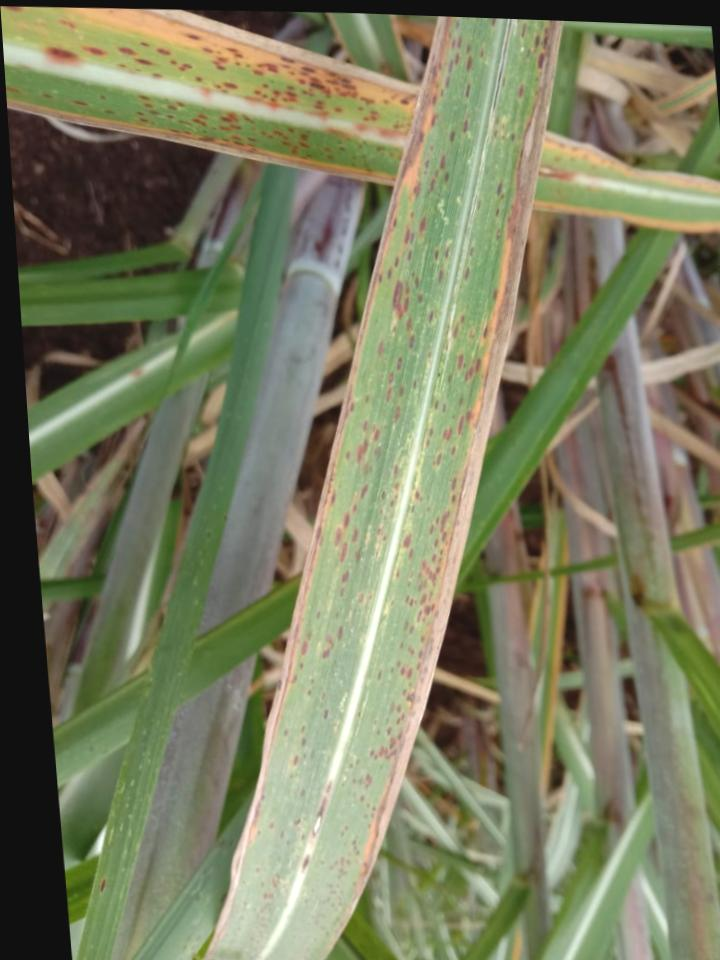RedRot: (311, 780, 332, 840), (538, 164, 578, 183), (244, 97, 291, 111), (42, 53, 83, 65), (305, 111, 328, 124), (376, 129, 405, 139), (301, 854, 310, 873), (199, 86, 212, 99), (354, 124, 369, 131)
Rust: (323, 71, 360, 100), (393, 279, 411, 319), (341, 384, 355, 432), (420, 559, 442, 589), (309, 77, 333, 99), (44, 46, 79, 61), (464, 356, 483, 383), (212, 81, 240, 94), (328, 856, 352, 871), (78, 46, 110, 57), (357, 438, 369, 467), (210, 56, 231, 72), (417, 213, 428, 242), (403, 224, 416, 247), (385, 371, 394, 403), (378, 745, 396, 761), (440, 509, 451, 534), (445, 59, 454, 89), (429, 168, 439, 195), (256, 63, 280, 74), (495, 179, 506, 202), (218, 112, 240, 123), (116, 46, 139, 56), (281, 91, 300, 103), (282, 140, 298, 154), (58, 19, 78, 30), (412, 180, 422, 202), (371, 422, 381, 444), (132, 58, 159, 66), (361, 110, 380, 121), (298, 67, 318, 77), (465, 53, 474, 75), (339, 542, 348, 564), (324, 633, 335, 651), (359, 96, 377, 107), (271, 871, 282, 889), (399, 95, 417, 106), (441, 427, 453, 443), (241, 113, 257, 125), (6, 84, 23, 95), (400, 666, 413, 680), (69, 98, 89, 107), (517, 81, 526, 101), (536, 51, 545, 71), (360, 482, 370, 500), (334, 527, 343, 547), (177, 63, 195, 73), (329, 128, 349, 137), (340, 568, 351, 584), (218, 125, 243, 132), (278, 55, 297, 64), (541, 29, 549, 50), (394, 404, 402, 425), (423, 603, 435, 617), (343, 511, 351, 531), (312, 101, 328, 111), (273, 130, 289, 140), (260, 902, 274, 913), (391, 119, 405, 130), (364, 773, 373, 790), (253, 90, 270, 99), (462, 116, 470, 135), (188, 119, 207, 127), (196, 135, 215, 143), (418, 577, 428, 592), (395, 355, 403, 373), (373, 447, 382, 463), (362, 462, 374, 474), (352, 493, 358, 517), (402, 533, 411, 549), (154, 47, 172, 55), (186, 34, 204, 42), (300, 89, 316, 98), (451, 36, 462, 49), (246, 143, 259, 154), (440, 154, 448, 171), (431, 112, 440, 127), (405, 317, 414, 332), (457, 352, 464, 371), (435, 449, 442, 468), (414, 490, 424, 503), (464, 409, 472, 425), (450, 475, 458, 491), (495, 225, 502, 243), (378, 338, 385, 356), (319, 897, 331, 907), (534, 33, 541, 50), (315, 524, 322, 541), (1, 7, 24, 12), (521, 22, 527, 41), (453, 321, 459, 340), (103, 108, 117, 116), (42, 92, 56, 100), (479, 45, 486, 61), (444, 170, 451, 186), (463, 265, 470, 281), (482, 325, 489, 341), (408, 334, 415, 350), (351, 528, 358, 544), (301, 640, 308, 656), (292, 754, 300, 768), (458, 416, 464, 434), (337, 625, 343, 643), (396, 714, 405, 726), (145, 110, 163, 116), (271, 90, 283, 99), (298, 140, 310, 149), (454, 51, 461, 66), (437, 270, 444, 285), (428, 310, 435, 325), (427, 590, 435, 603), (262, 892, 275, 900), (252, 68, 265, 76), (332, 106, 345, 114), (336, 895, 344, 908), (389, 738, 398, 749), (389, 92, 400, 101), (418, 129, 425, 143), (407, 248, 414, 262), (397, 385, 404, 399), (416, 609, 423, 623), (278, 63, 292, 70), (465, 83, 471, 99), (492, 287, 498, 303), (416, 293, 424, 305), (414, 274, 420, 290), (468, 328, 476, 340), (450, 493, 458, 505), (354, 550, 362, 562), (524, 47, 531, 60), (449, 130, 456, 143), (295, 78, 308, 85), (394, 254, 400, 269), (393, 464, 399, 479), (330, 492, 336, 507), (175, 99, 185, 108), (420, 594, 428, 605), (322, 648, 330, 659), (338, 868, 349, 876), (423, 158, 430, 170), (476, 197, 482, 211), (358, 591, 364, 605), (151, 73, 165, 79), (229, 134, 243, 140), (286, 126, 295, 135), (136, 95, 152, 100), (177, 121, 193, 126), (260, 786, 265, 802), (362, 420, 368, 433), (389, 701, 395, 714), (310, 748, 316, 761), (196, 113, 209, 119), (139, 41, 152, 47), (408, 645, 415, 656), (396, 703, 403, 714), (386, 726, 393, 737), (224, 48, 239, 53), (215, 142, 230, 147), (466, 43, 472, 55), (495, 206, 501, 218), (451, 444, 457, 456), (318, 535, 324, 547), (409, 598, 417, 607), (404, 619, 410, 631), (377, 669, 383, 681), (168, 128, 180, 134), (202, 48, 214, 54), (33, 21, 45, 27), (502, 75, 507, 89), (434, 248, 439, 262), (393, 481, 400, 491), (315, 610, 322, 620), (290, 674, 297, 684), (300, 737, 307, 747), (165, 105, 179, 110), (168, 59, 178, 66), (234, 53, 244, 60), (454, 19, 460, 30), (510, 132, 516, 143), (409, 210, 415, 221), (460, 314, 466, 325), (428, 427, 434, 438), (433, 538, 439, 549), (352, 878, 358, 889), (138, 118, 149, 124), (264, 134, 275, 140), (406, 693, 414, 701), (195, 76, 204, 83), (324, 146, 333, 153), (304, 895, 311, 904), (376, 147, 385, 154), (553, 156, 562, 163), (492, 18, 498, 28), (387, 268, 392, 280), (442, 403, 447, 415), (345, 449, 350, 461), (307, 629, 312, 641), (397, 731, 403, 741), (300, 788, 306, 798), (143, 103, 155, 108), (246, 137, 258, 142), (233, 141, 245, 146), (356, 106, 366, 112), (319, 111, 329, 117), (100, 94, 108, 101), (382, 98, 390, 105), (432, 95, 437, 106), (494, 129, 499, 140), (469, 245, 474, 256), (434, 400, 439, 411), (365, 394, 370, 405), (442, 532, 447, 543), (321, 691, 326, 702), (324, 709, 329, 720), (165, 114, 176, 119), (219, 138, 230, 143), (410, 625, 416, 634), (369, 749, 375, 758), (286, 85, 295, 91), (300, 134, 309, 140), (448, 372, 452, 385), (181, 131, 194, 135), (416, 167, 421, 177), (393, 218, 398, 228), (412, 380, 417, 390), (381, 491, 386, 501), (418, 649, 423, 659), (396, 660, 401, 670), (428, 145, 435, 152), (459, 397, 465, 405), (319, 859, 325, 867), (285, 839, 291, 847), (255, 866, 261, 874), (387, 152, 395, 158), (405, 595, 410, 604), (399, 640, 404, 649), (416, 662, 421, 671), (301, 725, 306, 734), (358, 777, 363, 786), (133, 67, 142, 72), (261, 84, 270, 89), (233, 62, 242, 67), (269, 97, 278, 102), (364, 168, 373, 173), (445, 248, 449, 259), (409, 549, 413, 560), (117, 64, 128, 68), (359, 795, 365, 802), (294, 819, 301, 825), (305, 129, 312, 135), (327, 882, 333, 889), (249, 126, 256, 132), (447, 31, 452, 39), (440, 89, 445, 97), (378, 273, 382, 283), (392, 326, 397, 334), (382, 533, 387, 541), (377, 526, 381, 536), (430, 525, 434, 535), (410, 569, 414, 579), (340, 588, 344, 598), (299, 662, 304, 670), (283, 728, 288, 736), (280, 831, 285, 839), (136, 111, 144, 116), (212, 43, 220, 48), (288, 72, 296, 77), (300, 155, 308, 160), (345, 138, 353, 143), (495, 116, 499, 125), (411, 505, 415, 514), (307, 690, 313, 696), (355, 759, 361, 765), (362, 140, 368, 146), (337, 483, 343, 489), (411, 271, 416, 278), (426, 352, 431, 359), (451, 413, 456, 420), (420, 635, 425, 642), (344, 825, 349, 832), (352, 839, 357, 846), (301, 834, 306, 841), (355, 858, 360, 865), (277, 855, 282, 862), (352, 153, 357, 160), (549, 20, 553, 28), (436, 517, 440, 525), (432, 554, 436, 562), (367, 823, 371, 831), (330, 891, 338, 895), (326, 155, 334, 159), (379, 508, 384, 514), (390, 600, 395, 606), (357, 712, 362, 718), (348, 763, 353, 769), (371, 805, 376, 811), (289, 774, 294, 780), (337, 874, 342, 880), (202, 129, 208, 134), (211, 126, 217, 131), (270, 78, 275, 84), (260, 131, 266, 136), (343, 841, 348, 847), (352, 792, 357, 798), (339, 147, 345, 152), (395, 112, 400, 118), (571, 157, 576, 163), (426, 440, 430, 447), (440, 548, 444, 555), (396, 570, 400, 577), (335, 612, 339, 619), (390, 666, 394, 673), (376, 729, 380, 736), (341, 781, 345, 788), (216, 51, 223, 55), (361, 155, 368, 159), (439, 62, 442, 71), (310, 679, 315, 684), (353, 846, 358, 851), (355, 851, 360, 856), (246, 64, 251, 69), (347, 853, 352, 858), (338, 140, 343, 145), (501, 134, 505, 140), (423, 170, 427, 176), (393, 495, 397, 501), (438, 557, 442, 563), (418, 573, 422, 579), (407, 582, 411, 588), (422, 616, 426, 622), (403, 689, 406, 697), (386, 717, 389, 725), (374, 754, 378, 760), (379, 764, 383, 770), (352, 778, 356, 784), (367, 802, 371, 808), (270, 823, 274, 829), (306, 154, 312, 158), (350, 163, 356, 167), (502, 123, 505, 130), (391, 500, 394, 507), (341, 831, 344, 838), (445, 541, 449, 546), (364, 814, 368, 819), (358, 840, 362, 845), (358, 145, 363, 149), (437, 372, 441, 377), (427, 506, 430, 512), (369, 595, 372, 601), (303, 752, 306, 758), (381, 152, 385, 156), (320, 152, 324, 156), (375, 552, 378, 557), (409, 683, 412, 688), (371, 814, 374, 819), (384, 514, 386, 521), (434, 527, 437, 531)
Yellow: (54, 8, 419, 117), (354, 17, 455, 381), (7, 98, 396, 182), (282, 448, 339, 704), (373, 342, 437, 563), (391, 340, 446, 582), (469, 215, 512, 431)
